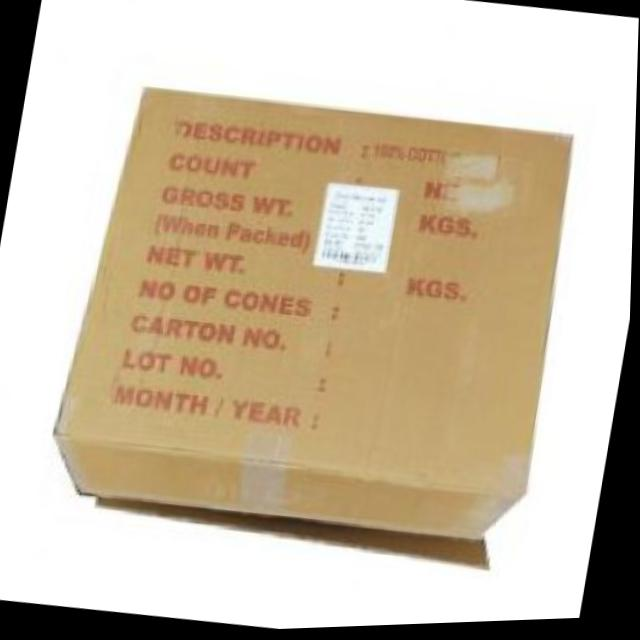box: (25, 39, 610, 600)
